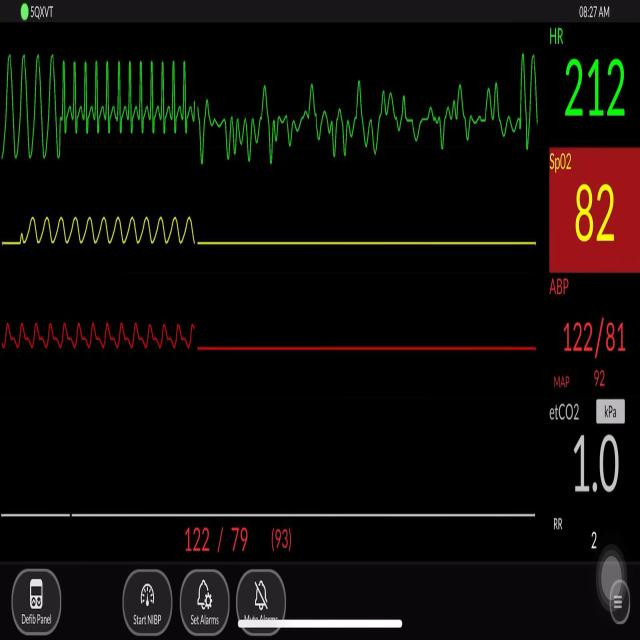danger: (55, 47, 200, 148), (0, 32, 53, 180)
